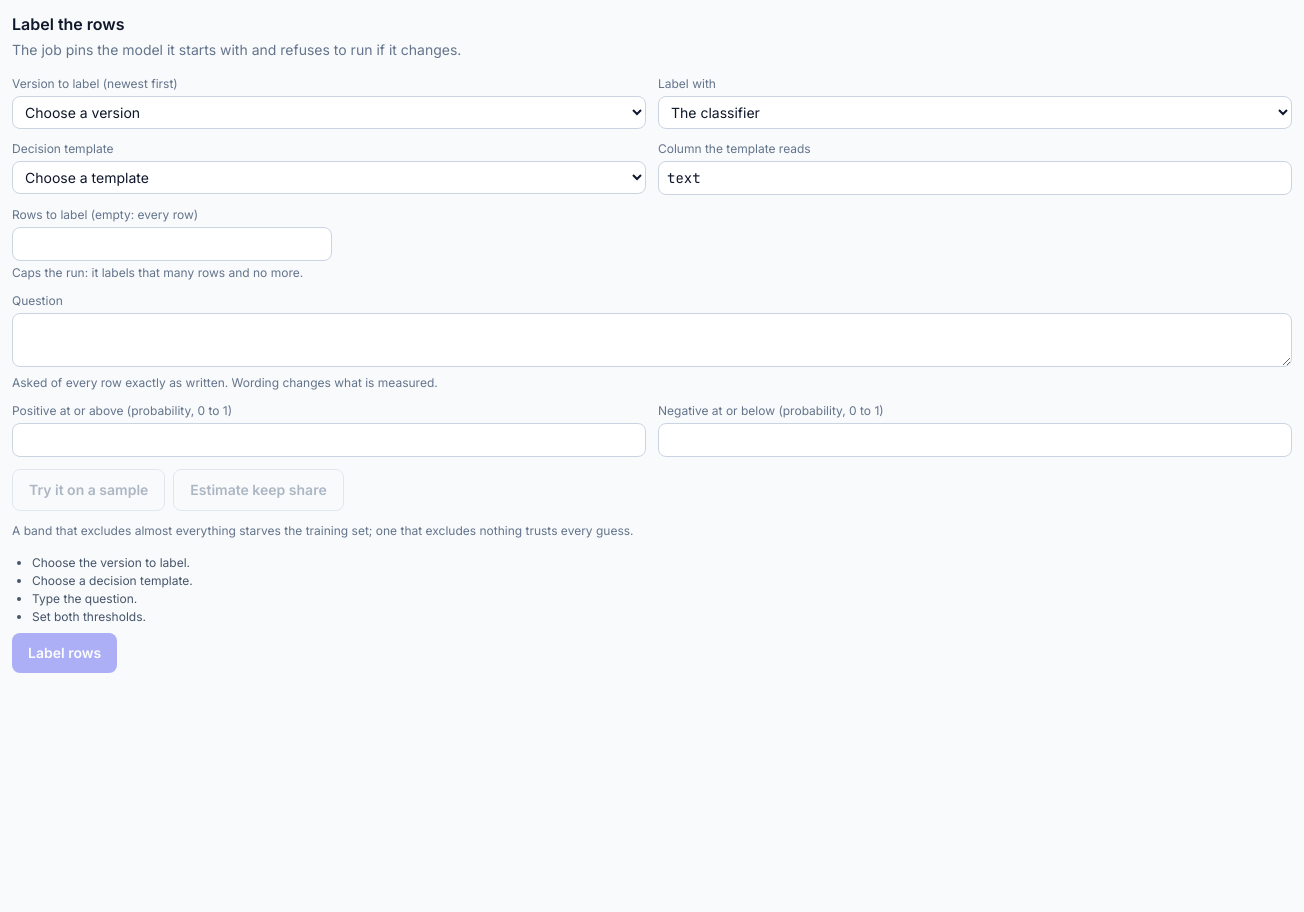
LabelStep with a probe in miLLM › offers the probe, fetches miLLM probes and names each one with its layer and model
Select "stakes v1 (25,000 rows)" in the dropdown labelled "Version to label" at (329, 112), box [12, 96, 646, 129]
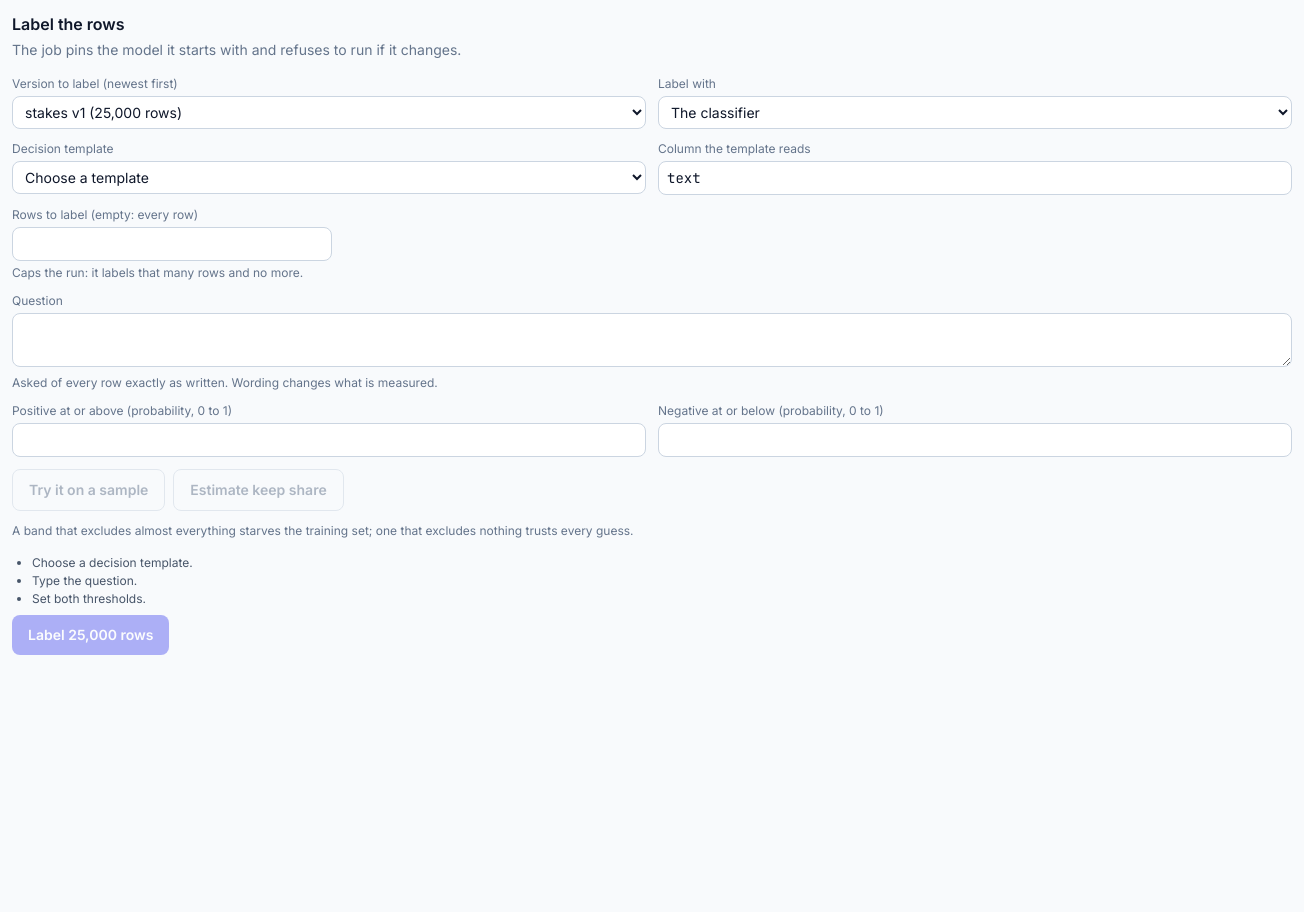
Select "A probe in miLLM" in the dropdown labelled "Label with" at (975, 112), box [658, 96, 1292, 129]
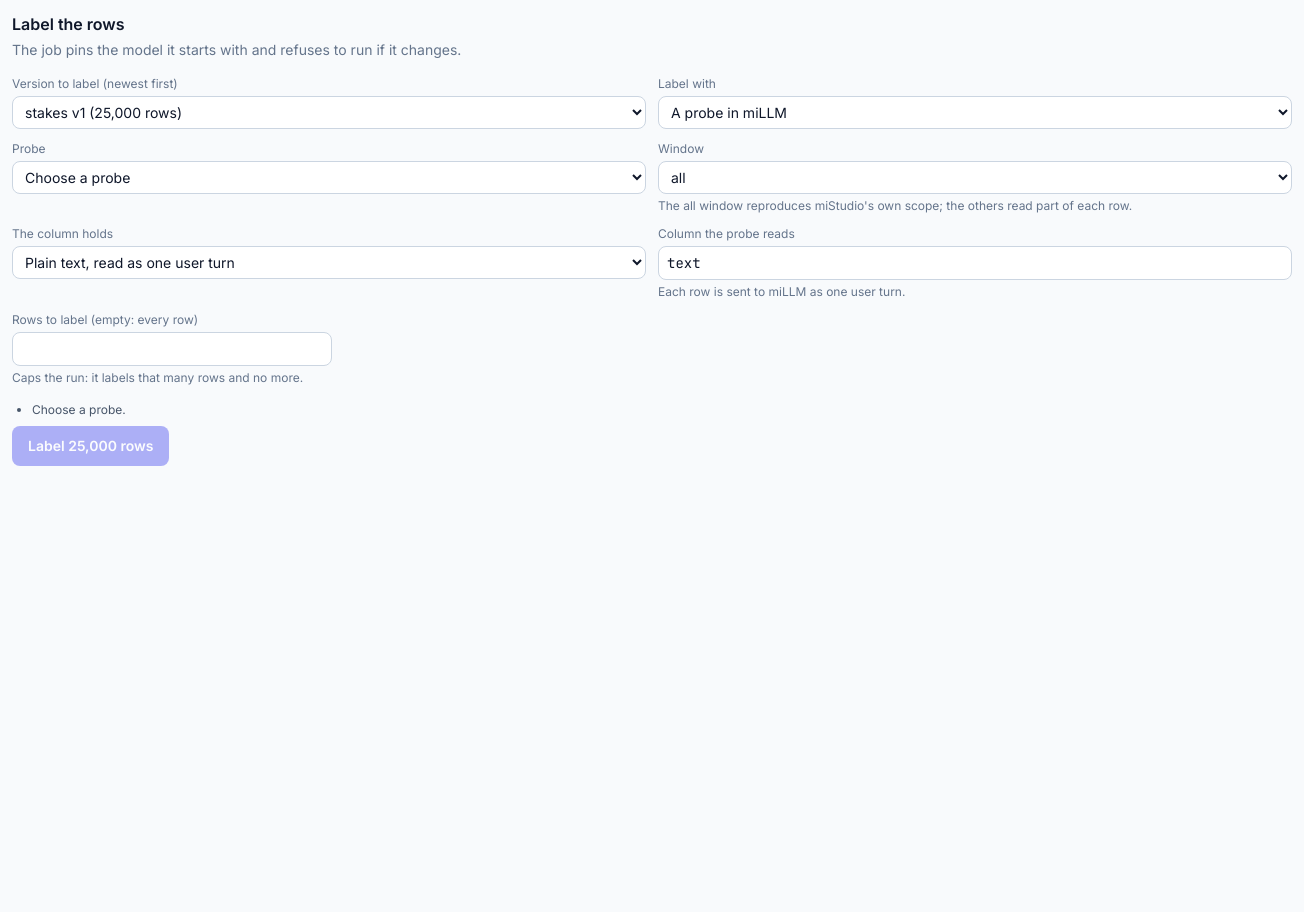
Expected: the text "The job pins the model it starts with and refuses to run if it changes." is shown, [12, 41, 461, 58]
Expected: the dropdown labelled "Window" shows "all", [658, 161, 1292, 194]
Expected: the text "The all window reproduces miStudio's own scope; the others read part of each row." is shown, [658, 198, 1132, 213]
